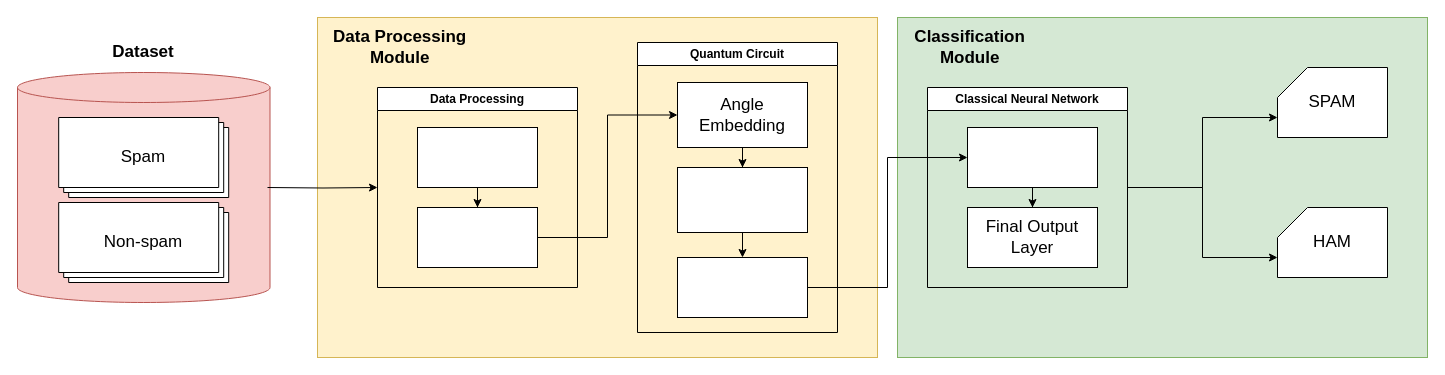
Image size: 1445x375. Some labels were removed from this diagram. The shapes that lost their labels are listed below. From the top down, each one's centre as x and y in pixels, then its label:
At point (477, 157): "TF-IDF".
At point (1032, 157): "Fully Connected Layer + ReLU".
At point (742, 199): "Basic Entangler Layers".
At point (477, 237): "PCA".
At point (742, 287): "Pauli-Z extraction".
